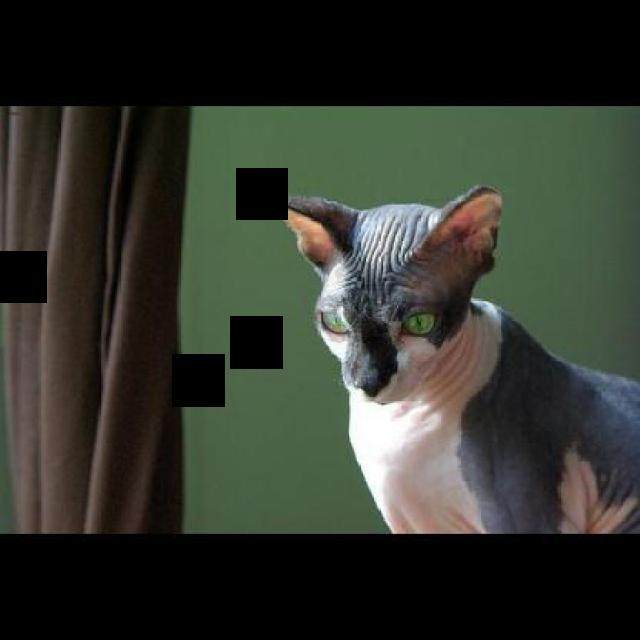unauthorized: (252, 181, 638, 534)
